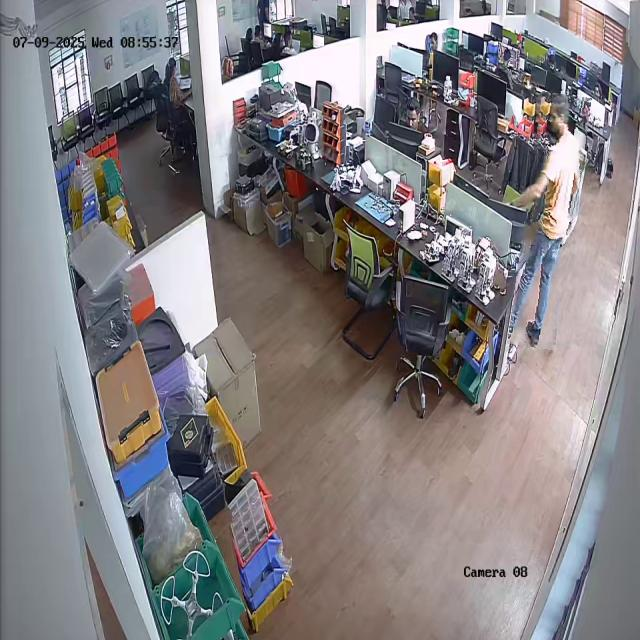person: (516, 92, 584, 349)
